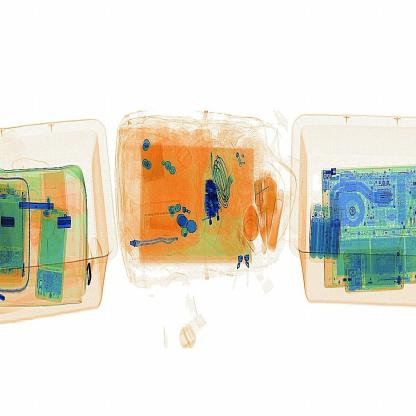scissors: (202, 172, 233, 234)
